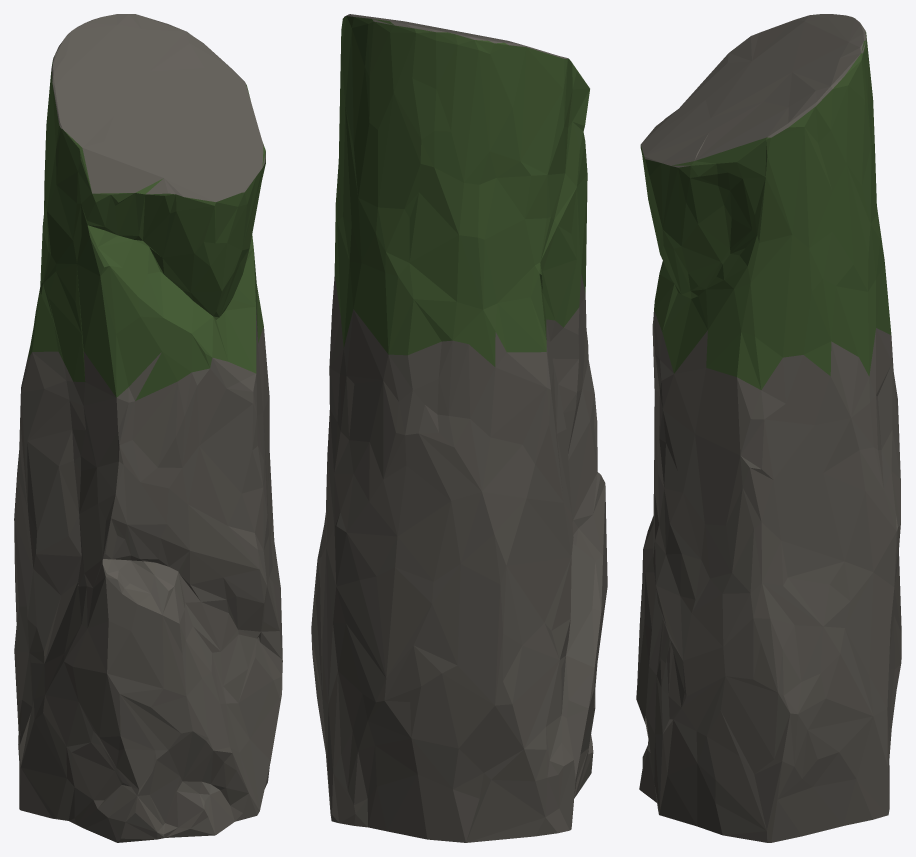
Rendered from boulder-tall-1.glb.
The picture shows the model from 3 angles, left to right: view 1: azimuth 30°, elevation 25°; view 2: azimuth 150°, elevation 25°; view 3: azimuth 270°, elevation 25°; orthographic projection. The views are drawn at different scales.
Visible parts, largest first — view 1: output_unwrapped; view 2: output_unwrapped; view 3: output_unwrapped.
Part boxes in pixels (x1=…): output_unwrapped: x1=14, y1=14, x2=282, y2=842; output_unwrapped: x1=311, y1=14, x2=607, y2=842; output_unwrapped: x1=636, y1=14, x2=901, y2=842.
Bounding box in the file's own units: 1.02 × 3 × 0.9564.
